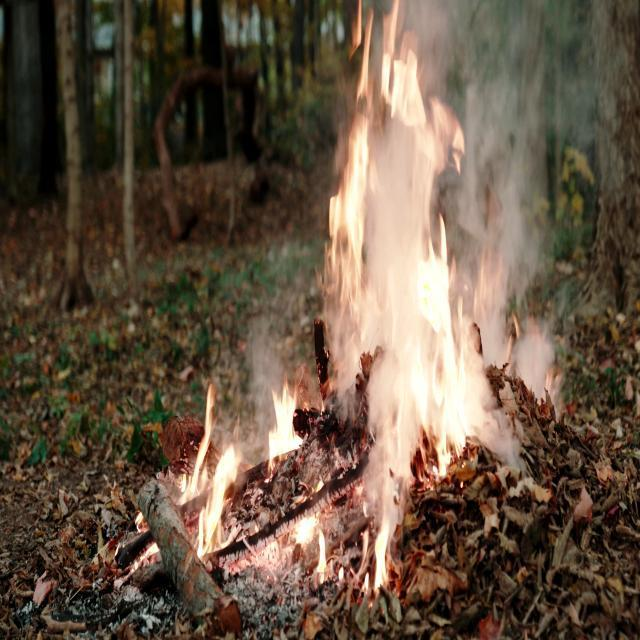Fire: (314, 0, 489, 588), (176, 358, 346, 588)
Smoke: (442, 0, 618, 428)
